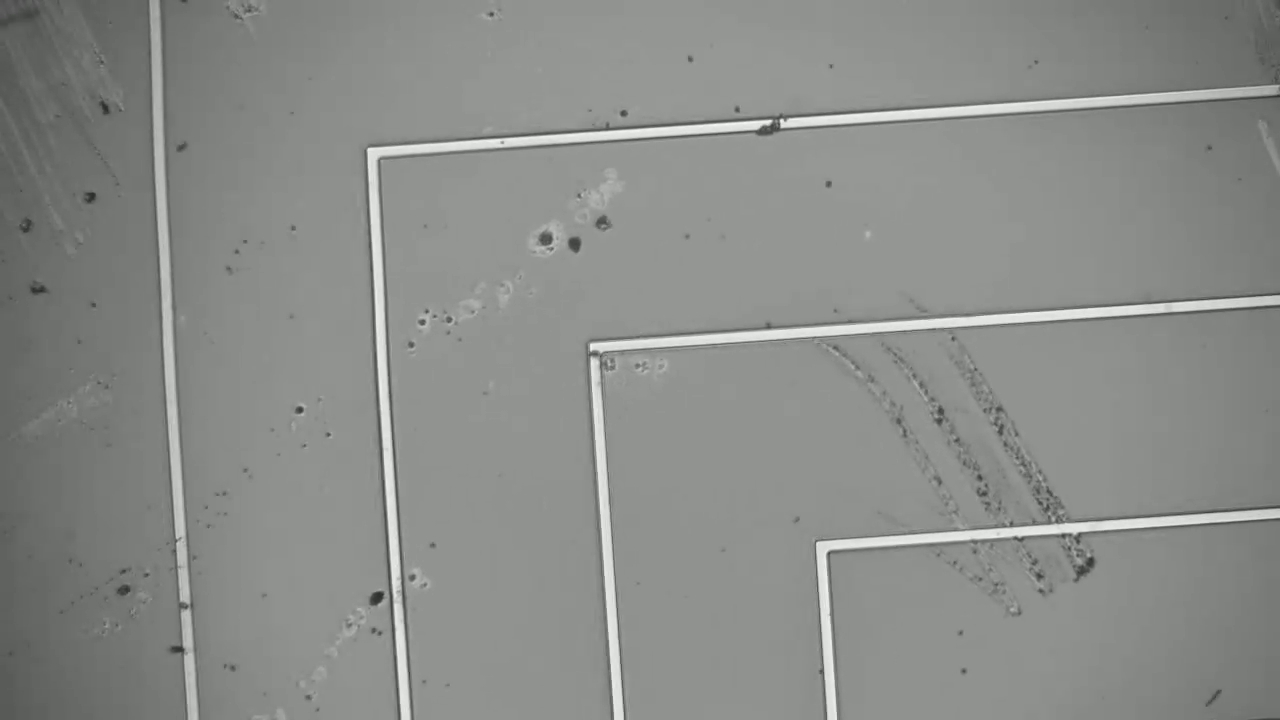scratch: (813, 280, 1107, 626)
stains_enbedded: (757, 110, 793, 146)
